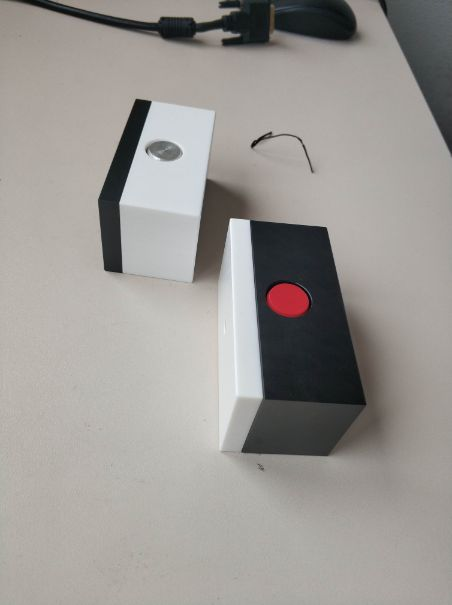black+white+silver: (94, 97, 217, 288)
white+black+red: (215, 214, 368, 459)
